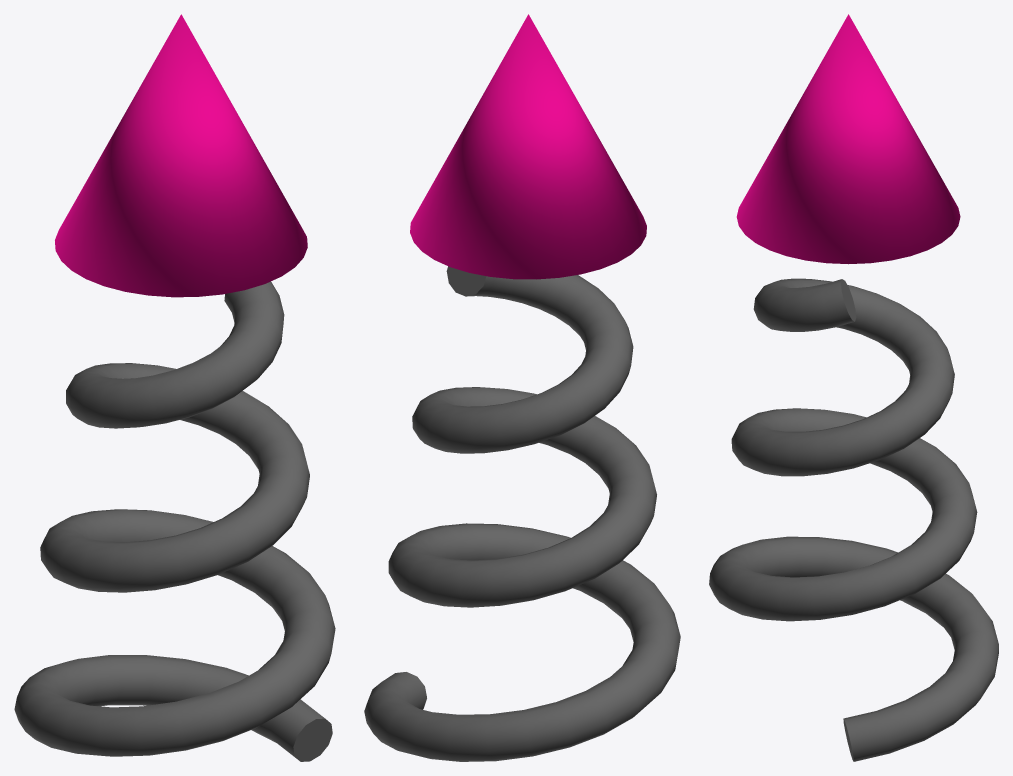
Rendered from super_jump.glb.
3 renders of one model, left to right at view 1: azimuth 30°, elevation 25°; view 2: azimuth 150°, elevation 25°; view 3: azimuth 270°, elevation 25°, orthographic. The views are drawn at different scales.
Visible parts, largest first — view 1: Spiral, Cone; view 2: Spiral, Cone; view 3: Spiral, Cone.
Part boxes in pixels (bbox=[...]): Spiral: bbox=[14, 281, 335, 761]; Cone: bbox=[55, 14, 307, 297]; Spiral: bbox=[364, 266, 680, 761]; Cone: bbox=[410, 14, 646, 279]; Spiral: bbox=[709, 278, 998, 761]; Cone: bbox=[736, 14, 960, 264].
Size of the model in its own units: 0.6743 by 1.7 by 0.6475.
